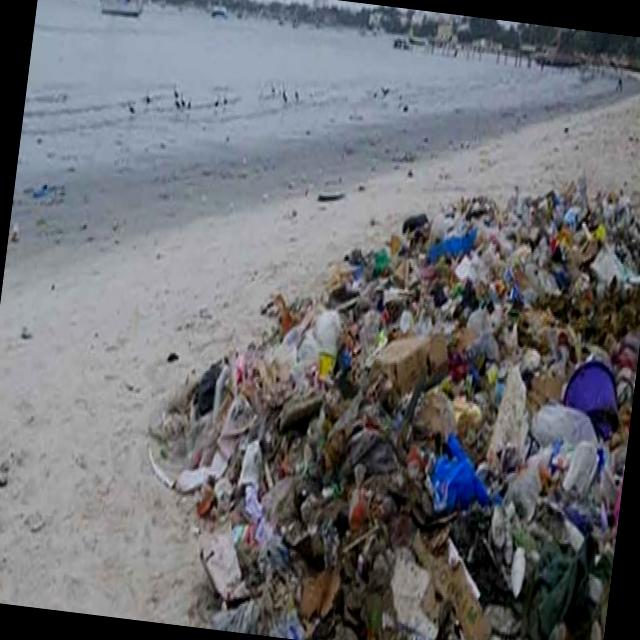garbage: (137, 201, 640, 640)
